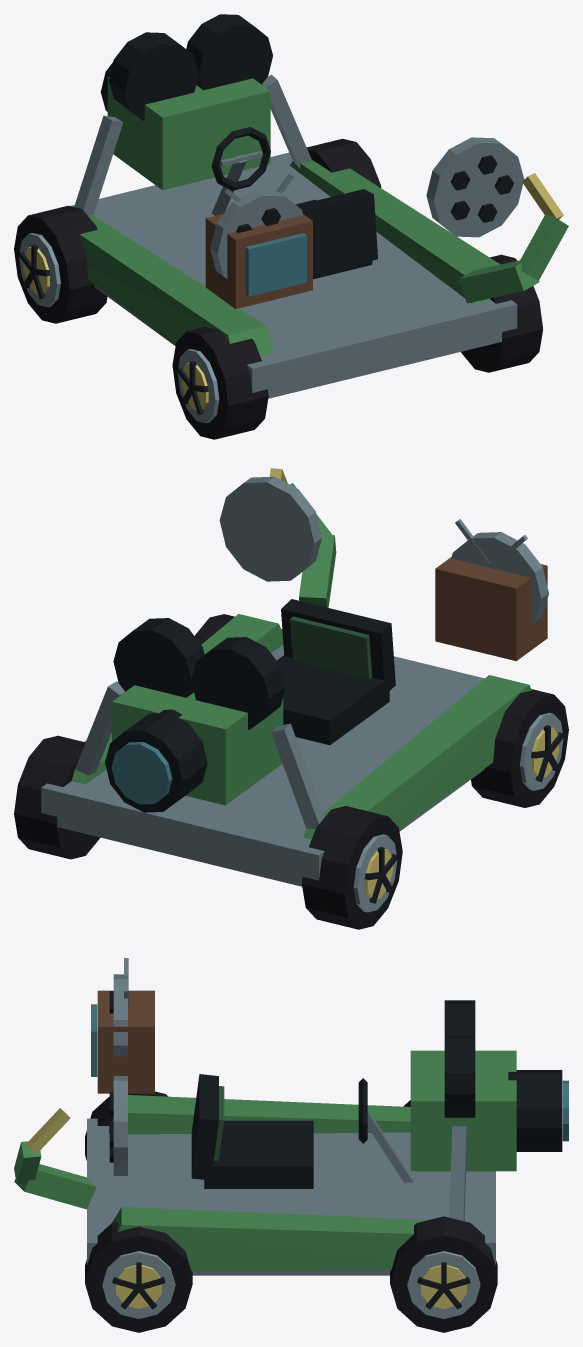
File: kart.glb
3 views of the same model, one above another, from view 1: azimuth 30°, elevation 25°; view 2: azimuth 150°, elevation 25°; view 3: azimuth 270°, elevation 25° (orthographic). The views are drawn at different scales.
Visible parts, largest first — view 1: identity-camera-rig-camera-dolly-and-lens, identity-camera-rig-motif-film, wheel-rear-left, identity-camera-rig-motif-television, wheel-front-left, identity-camera-rig-driver-cockpit, identity-camera-rig-motif-tail, wheel-rear-right, wheel-front-right; view 2: identity-camera-rig-camera-dolly-and-lens, identity-camera-rig-driver-cockpit, identity-camera-rig-motif-film, wheel-front-left, identity-camera-rig-motif-television, wheel-rear-left, wheel-front-right, identity-camera-rig-motif-tail; view 3: identity-camera-rig-camera-dolly-and-lens, identity-camera-rig-driver-cockpit, wheel-front-right, wheel-rear-right, identity-camera-rig-motif-television, identity-camera-rig-motif-tail, identity-camera-rig-motif-film, wheel-rear-left.
Boxes of the visible parts, x1=… form: identity-camera-rig-camera-dolly-and-lens: x1=70, y1=14, x2=517, y2=398; identity-camera-rig-motif-film: x1=210, y1=137, x2=524, y2=278; wheel-rear-left: x1=172, y1=327, x2=268, y2=439; identity-camera-rig-motif-television: x1=205, y1=173, x2=312, y2=309; wheel-front-left: x1=14, y1=205, x2=107, y2=323; identity-camera-rig-driver-cockpit: x1=211, y1=127, x2=377, y2=279; identity-camera-rig-motif-tail: x1=458, y1=173, x2=568, y2=303; wheel-rear-right: x1=461, y1=254, x2=543, y2=372; wheel-front-right: x1=306, y1=138, x2=381, y2=187; identity-camera-rig-camera-dolly-and-lens: x1=41, y1=614, x2=531, y2=886; identity-camera-rig-driver-cockpit: x1=277, y1=599, x2=395, y2=745; identity-camera-rig-motif-film: x1=219, y1=476, x2=548, y2=624; wheel-front-left: x1=302, y1=806, x2=402, y2=929; identity-camera-rig-motif-television: x1=435, y1=519, x2=547, y2=661; wheel-rear-left: x1=471, y1=689, x2=568, y2=807; wheel-front-right: x1=14, y1=735, x2=99, y2=859; identity-camera-rig-motif-tail: x1=269, y1=468, x2=336, y2=607; identity-camera-rig-camera-dolly-and-lens: x1=87, y1=1000, x2=568, y2=1275; identity-camera-rig-driver-cockpit: x1=191, y1=1074, x2=413, y2=1188; wheel-front-right: x1=390, y1=1216, x2=497, y2=1332; wheel-rear-right: x1=85, y1=1221, x2=192, y2=1332; identity-camera-rig-motif-television: x1=91, y1=958, x2=154, y2=1093; identity-camera-rig-motif-tail: x1=14, y1=1108, x2=96, y2=1209; identity-camera-rig-motif-film: x1=109, y1=974, x2=127, y2=1175; wheel-rear-left: x1=85, y1=1091, x2=168, y2=1160.
Size of the model in its own units: 2.07 by 1.46 by 3.09.
